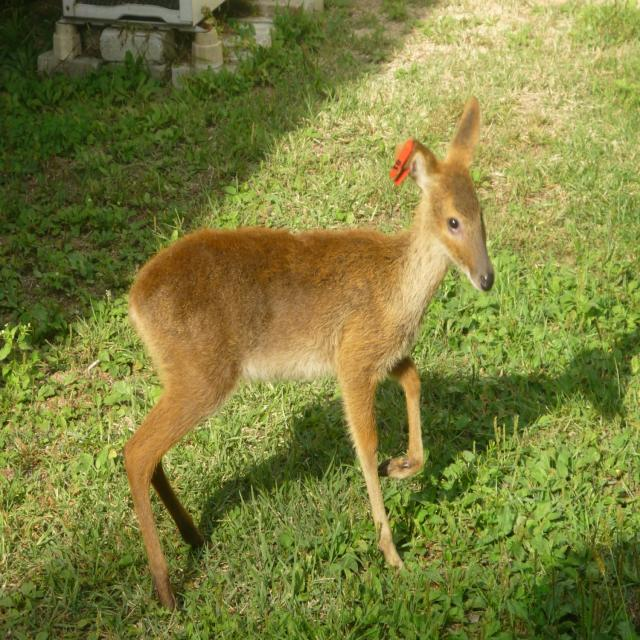elk: (115, 91, 500, 609)
